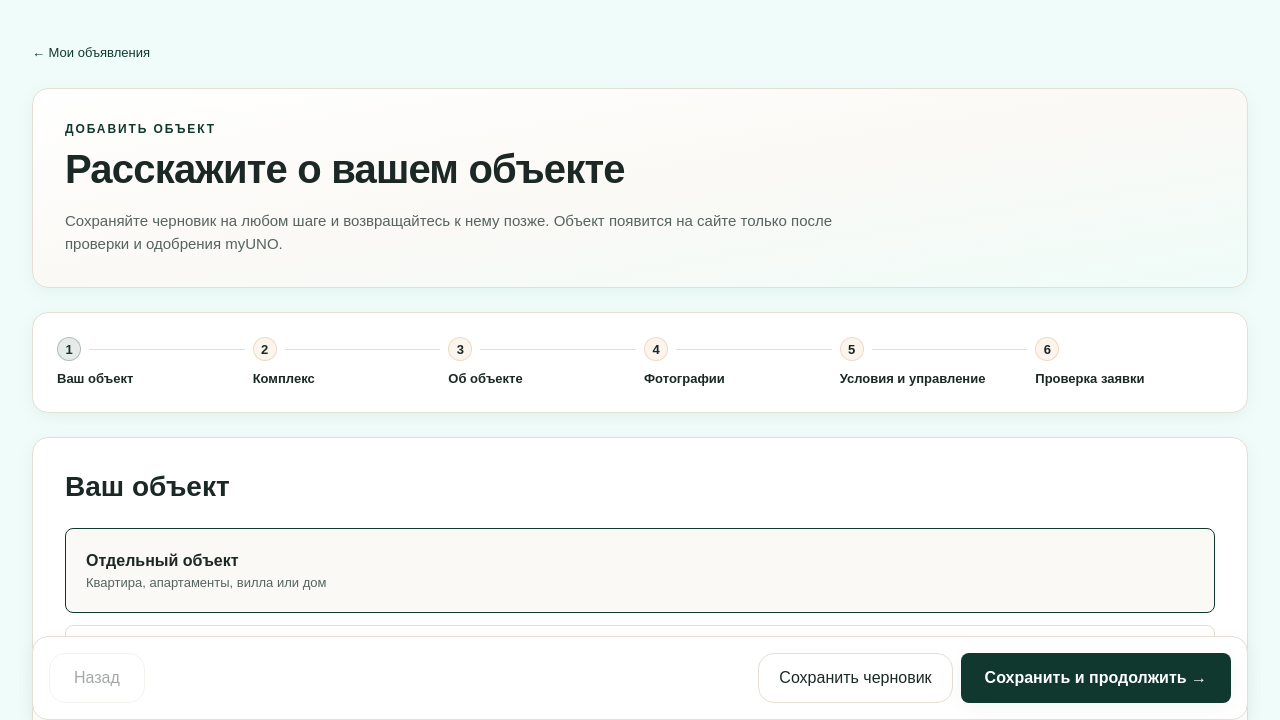
Test: bounded onboarding UI locale without workflow changes › renders shell, steps and preserves draft request in ru
The width and height of the screenshot is (1280, 720).
Expected: the heading "Расскажите о вашем объекте" is shown, [65,147,625,191]
Expected: the list named "Шаги добавления объекта" is shown, [57,337,1223,388]
Click the button "Сохранить и продолжить →" at (1096, 678), box [961,653,1231,703]
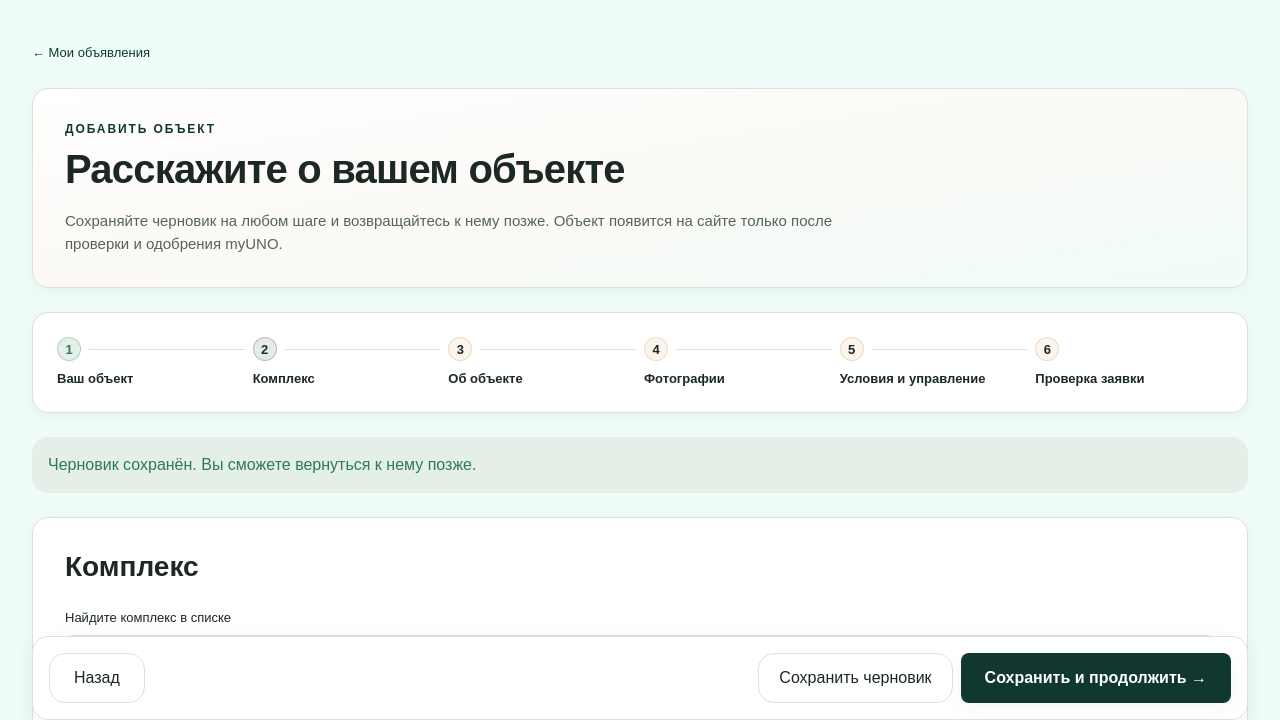
Expected: the heading "Комплекс" is shown, [65,551,199,582]
